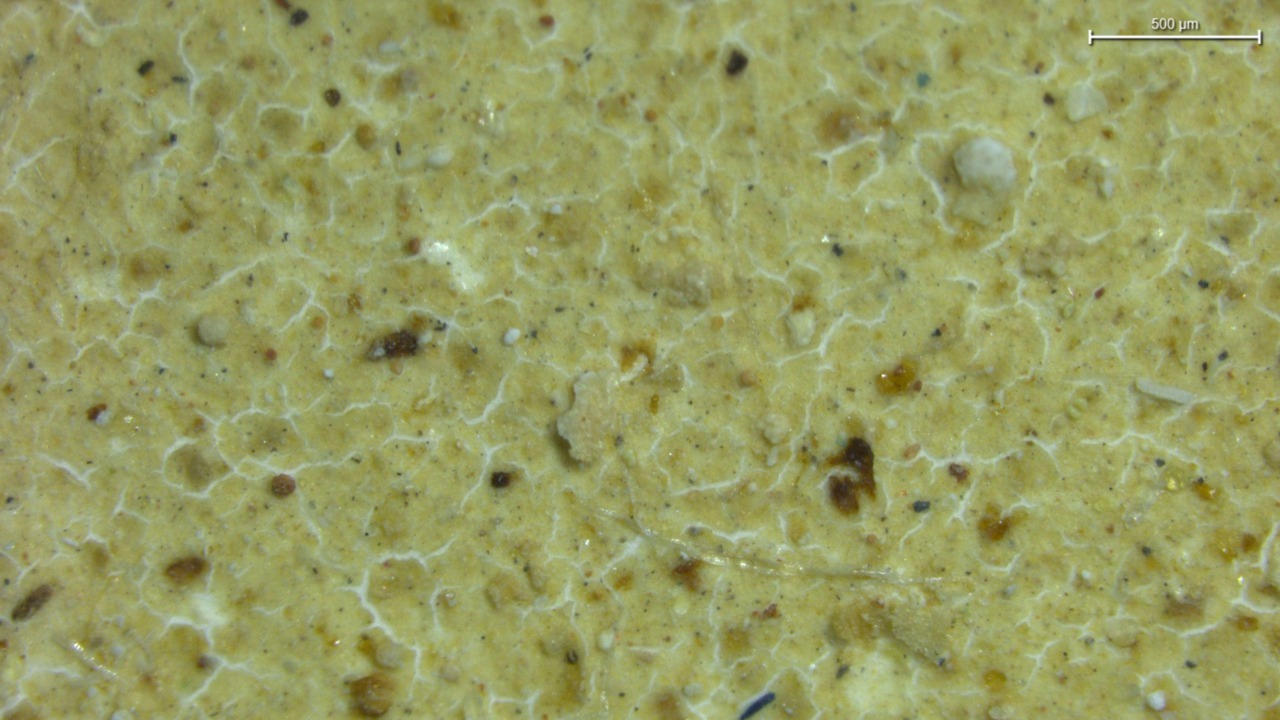microplastic_fragment: (559, 356, 648, 462), (953, 136, 1012, 192), (1068, 85, 1111, 122), (198, 315, 231, 346)
